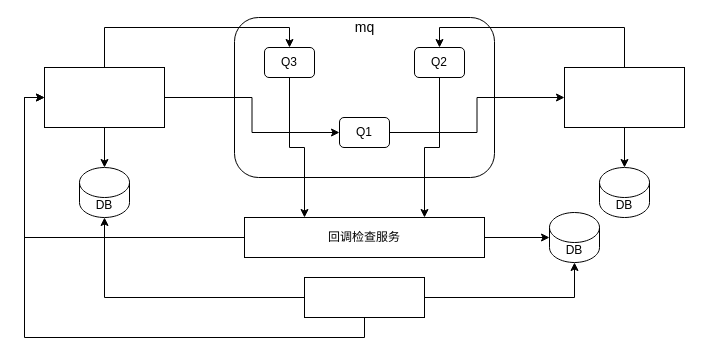
This 702x363 diagram has some shape labels left out. The shapes that lost their labels are listed below. From the top down, each one's centre as x and y in pixels, then its label:
At (104,97): "Producer".
At (624,97): "Consumer".
At (364,297): "定时检查服务".
